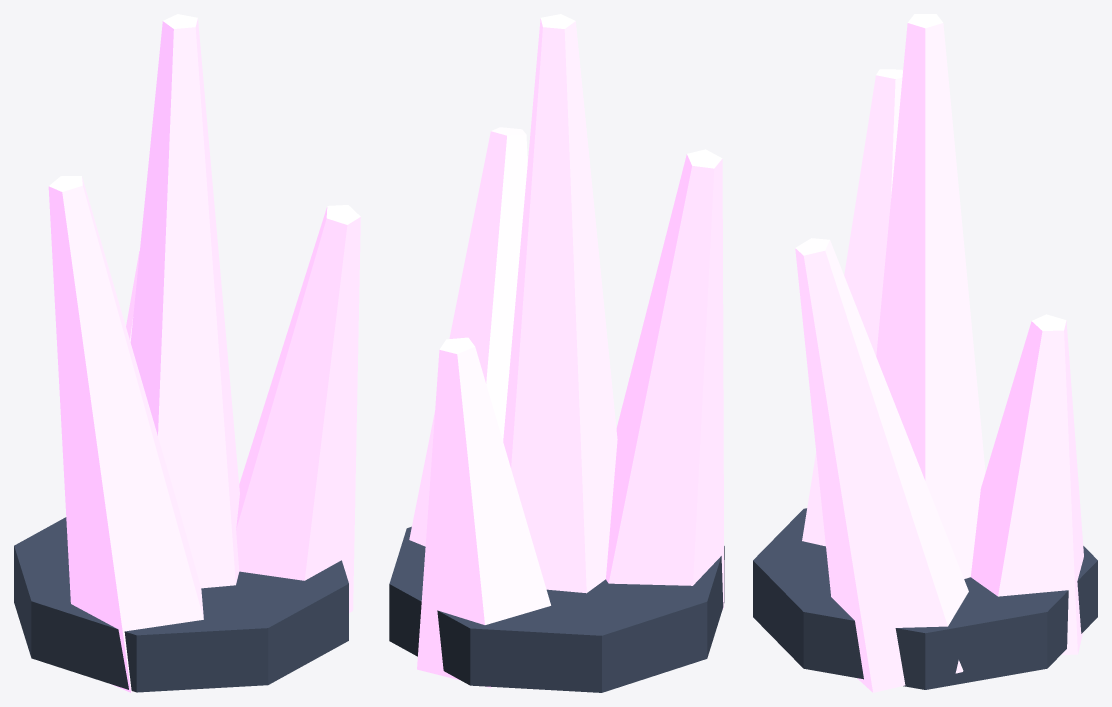
The model's file is specimen_placeholder.glb.
The picture shows the model from 3 angles, left to right: view 1: azimuth 30°, elevation 25°; view 2: azimuth 150°, elevation 25°; view 3: azimuth 270°, elevation 25°; orthographic projection.
Parts seen in each view (by area): view 1: DL013_SpecimenPlaceholder_emissive_violet, DL013_SpecimenPlaceholder_graphite_navy; view 2: DL013_SpecimenPlaceholder_emissive_violet, DL013_SpecimenPlaceholder_graphite_navy; view 3: DL013_SpecimenPlaceholder_emissive_violet, DL013_SpecimenPlaceholder_graphite_navy.
Boxes of the visible parts, box(x1,y1,x2,y2) form: DL013_SpecimenPlaceholder_emissive_violet: box(48, 14, 360, 692); DL013_SpecimenPlaceholder_graphite_navy: box(14, 517, 348, 692); DL013_SpecimenPlaceholder_emissive_violet: box(409, 14, 724, 687); DL013_SpecimenPlaceholder_graphite_navy: box(389, 526, 724, 692); DL013_SpecimenPlaceholder_emissive_violet: box(795, 14, 1083, 692); DL013_SpecimenPlaceholder_graphite_navy: box(753, 508, 1097, 689).
Bounding box in the file's own units: 0.22 × 0.4263 × 0.22.
